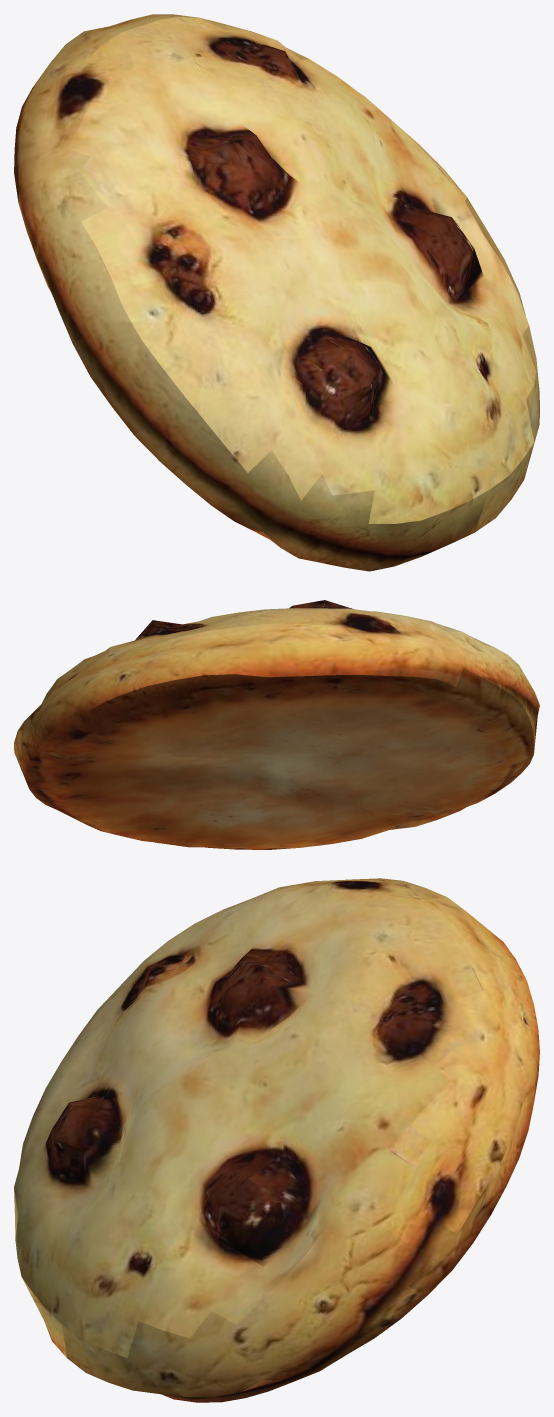
File: cookie.glb
3 views of the same model, one above another, from view 1: azimuth 30°, elevation 25°; view 2: azimuth 150°, elevation 25°; view 3: azimuth 270°, elevation 25° (orthographic). The views are drawn at different scales.
Visible parts, largest first — view 1: Cookie_Cookie_0; view 2: Cookie_Cookie_0; view 3: Cookie_Cookie_0.
Boxes of the visible parts, bbox=[...] form: Cookie_Cookie_0: bbox=[14, 14, 539, 571]; Cookie_Cookie_0: bbox=[14, 600, 539, 849]; Cookie_Cookie_0: bbox=[14, 878, 539, 1402].
Bounding box in the file's own units: 6.81 × 5.39 × 6.47.
1 material, 1 textured.
